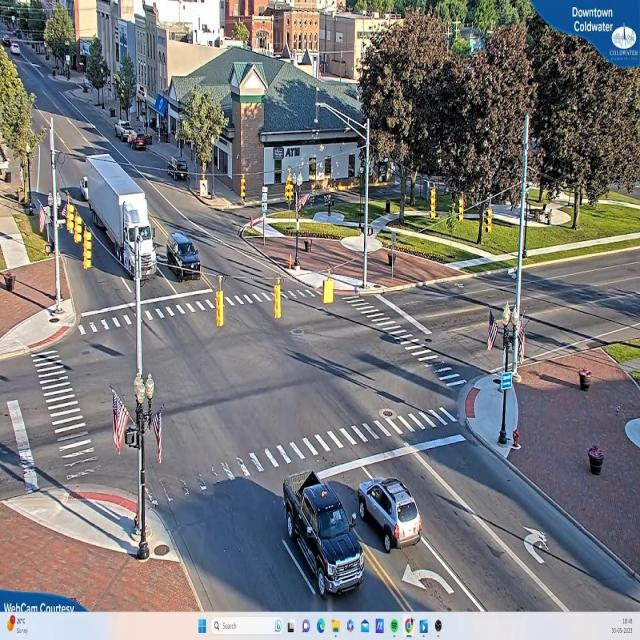car: (280, 477, 365, 597), (357, 478, 422, 553), (130, 134, 148, 150)
truck: (84, 144, 158, 292)
